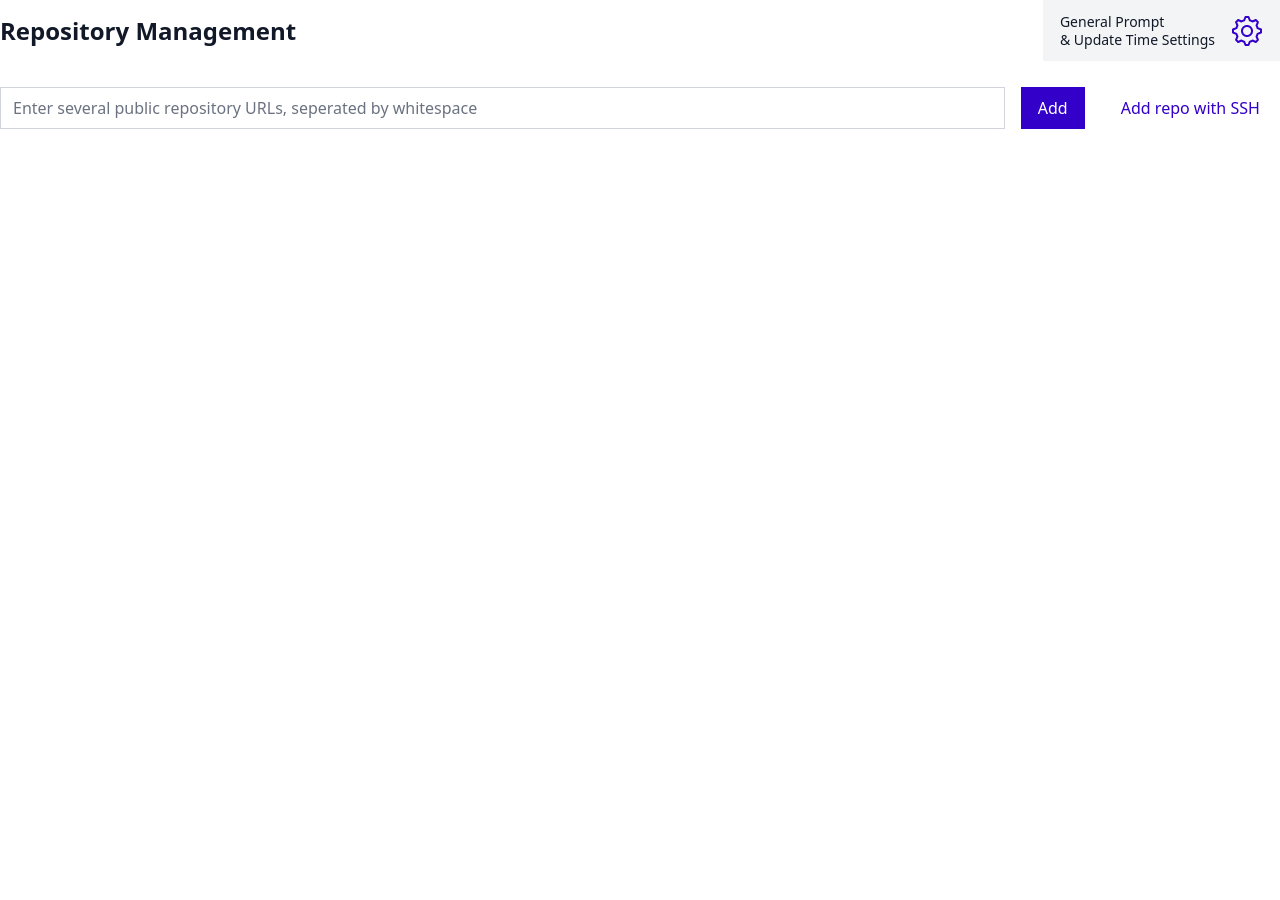
Scenario: AdminRepoHeader - Integration Tests › displays username and token fields when in HTTPS mode
The image size is (1280, 900).
// Open popup
Click the button "Add repo with SSH". click: (1190, 108)
box: [1101,85,1279,130]
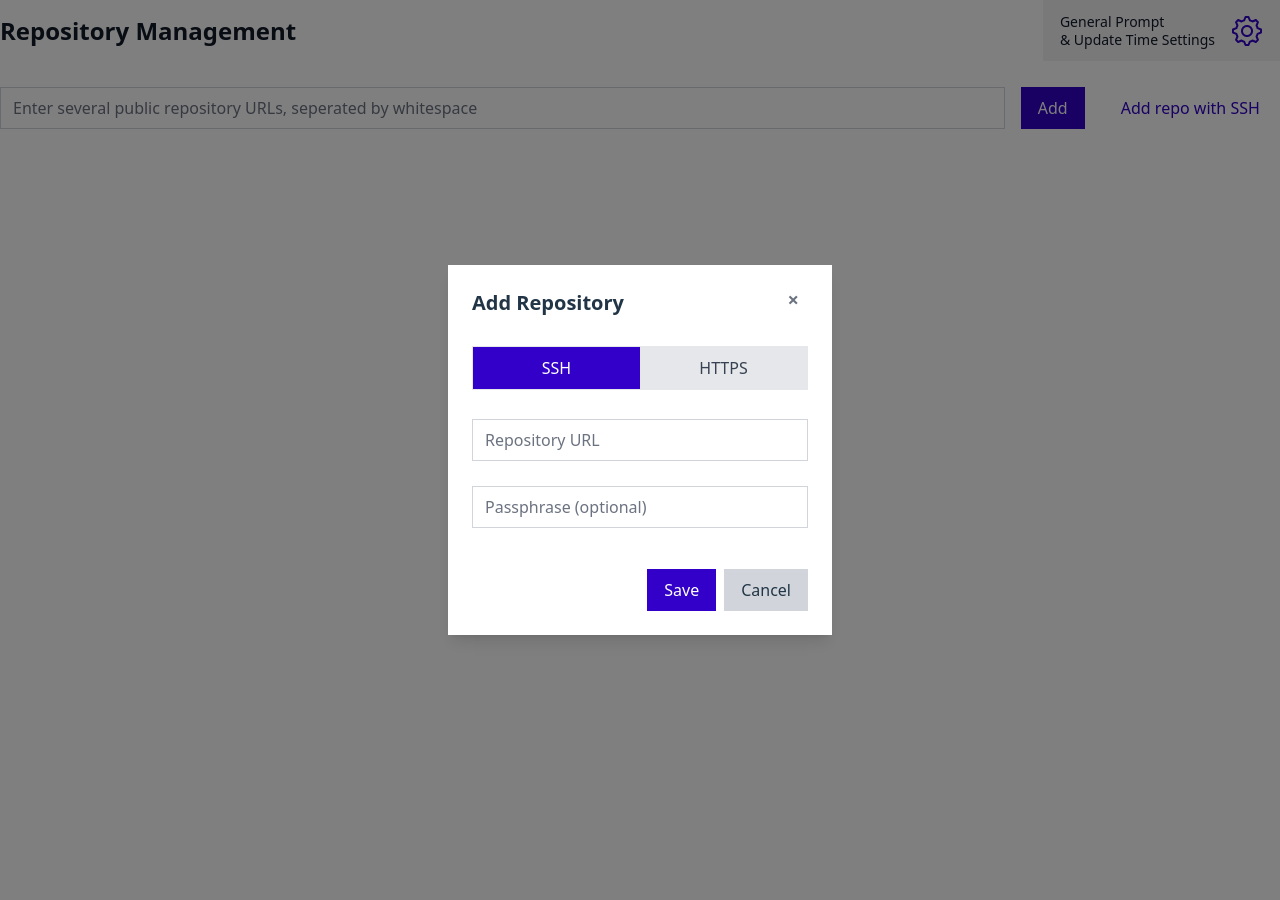
Click the button "HTTPS". click: (724, 368)
box: [640,347,807,389]
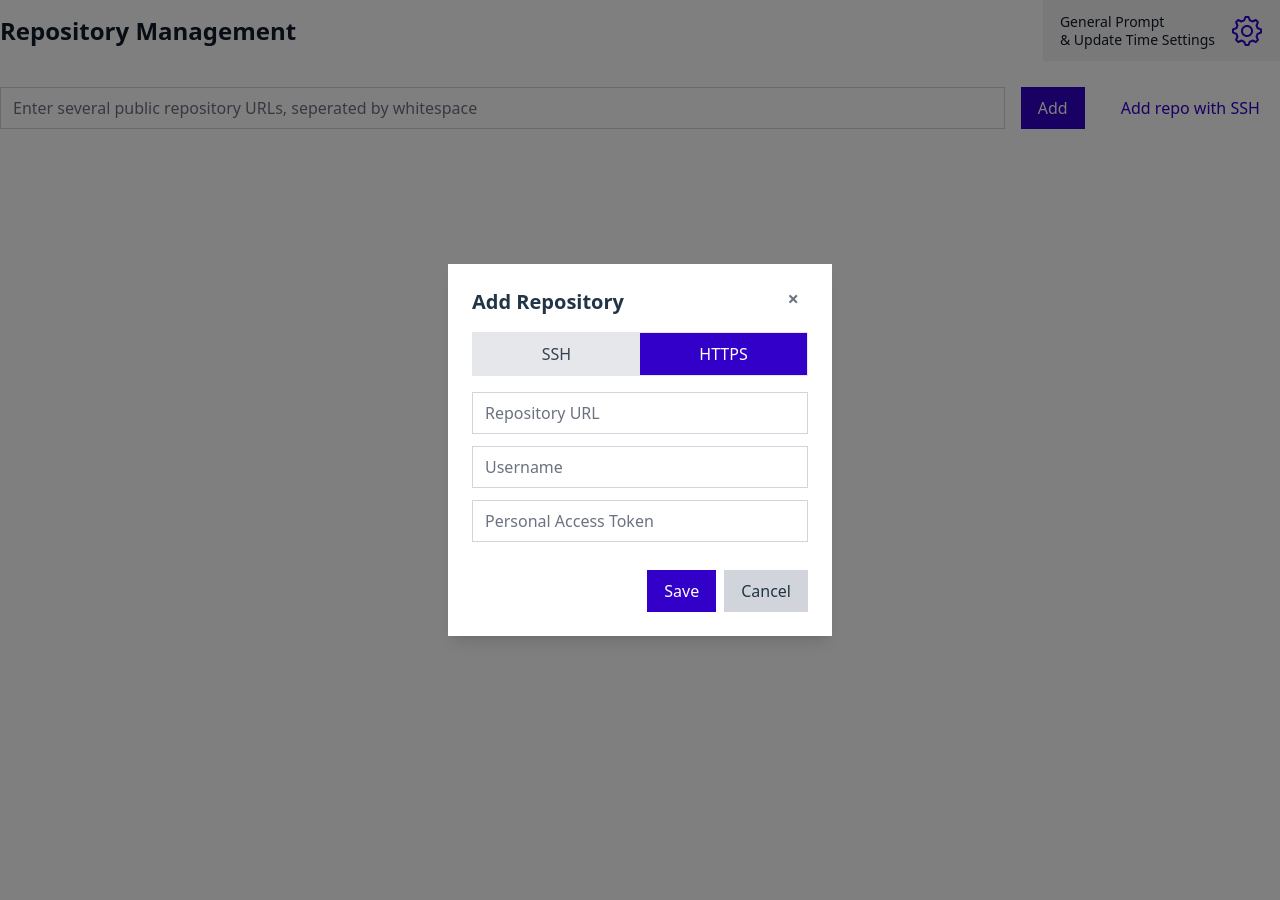
Expected: the field with placeholder "Username" is shown, [472,446,808,488]
Expected: the password field with placeholder "Personal Access Token" is shown, [472,500,808,542]
